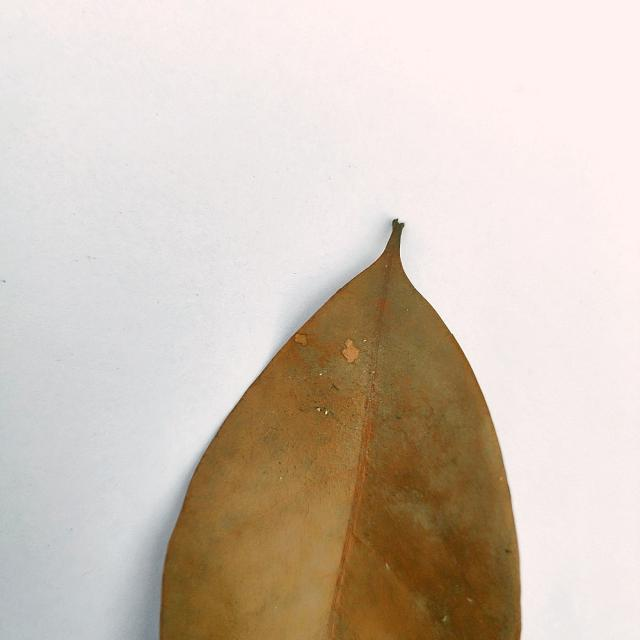Dry_Leaf-Lychee: (157, 223, 523, 639)
